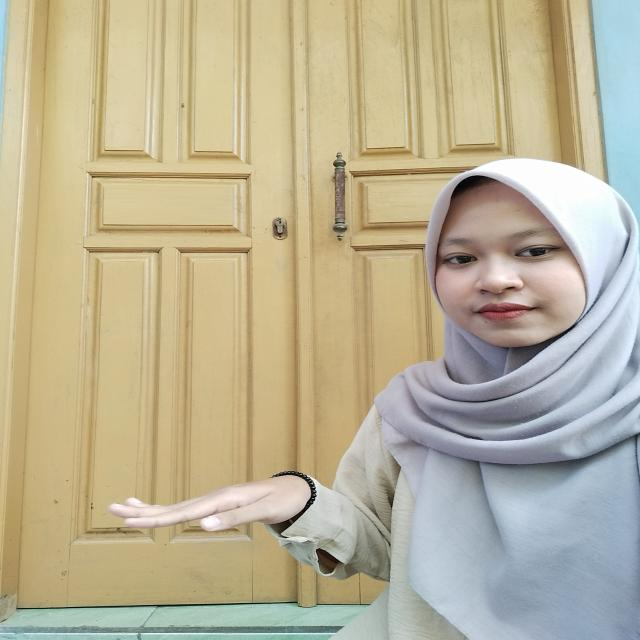adik: (105, 448, 343, 570)
